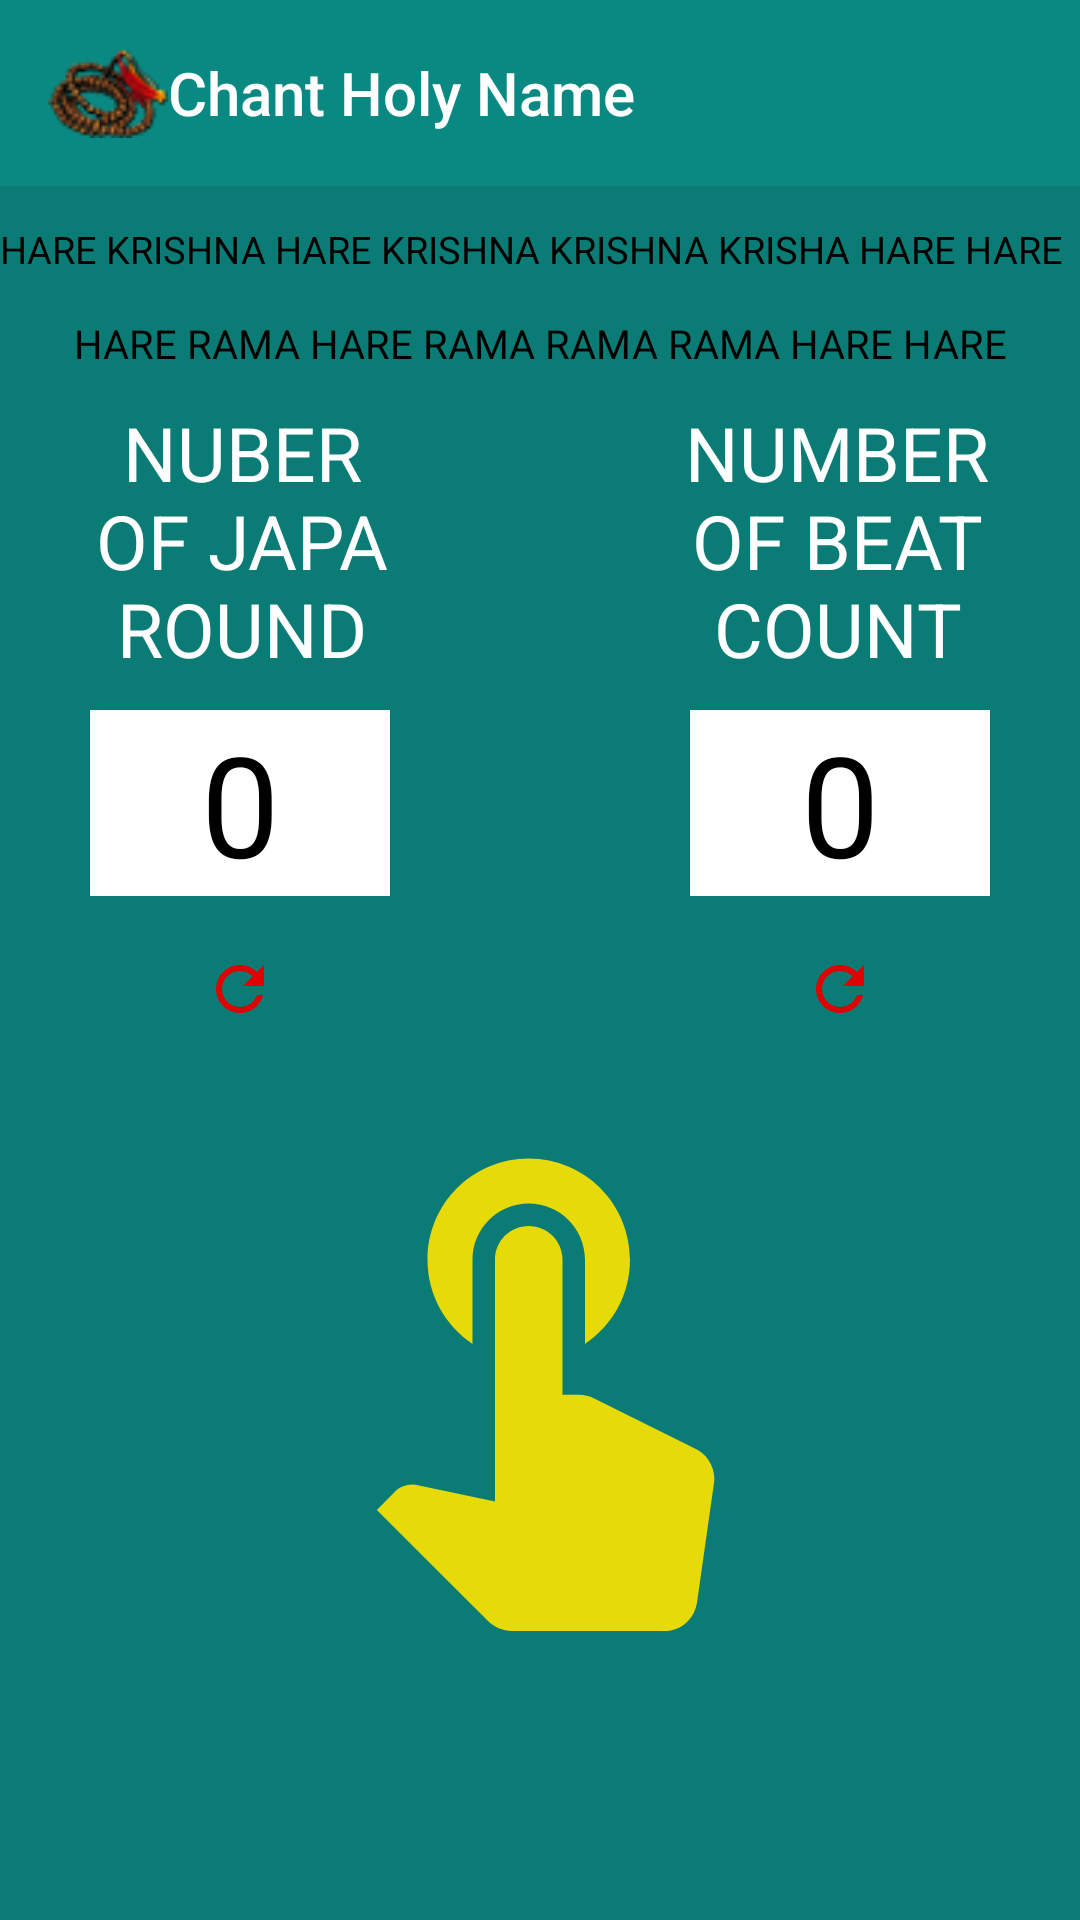

Icon click points for this 1080 x 1920 phone screenshot, format (x=x, y=y):
refresh: (x=240, y=989), (x=840, y=989)
